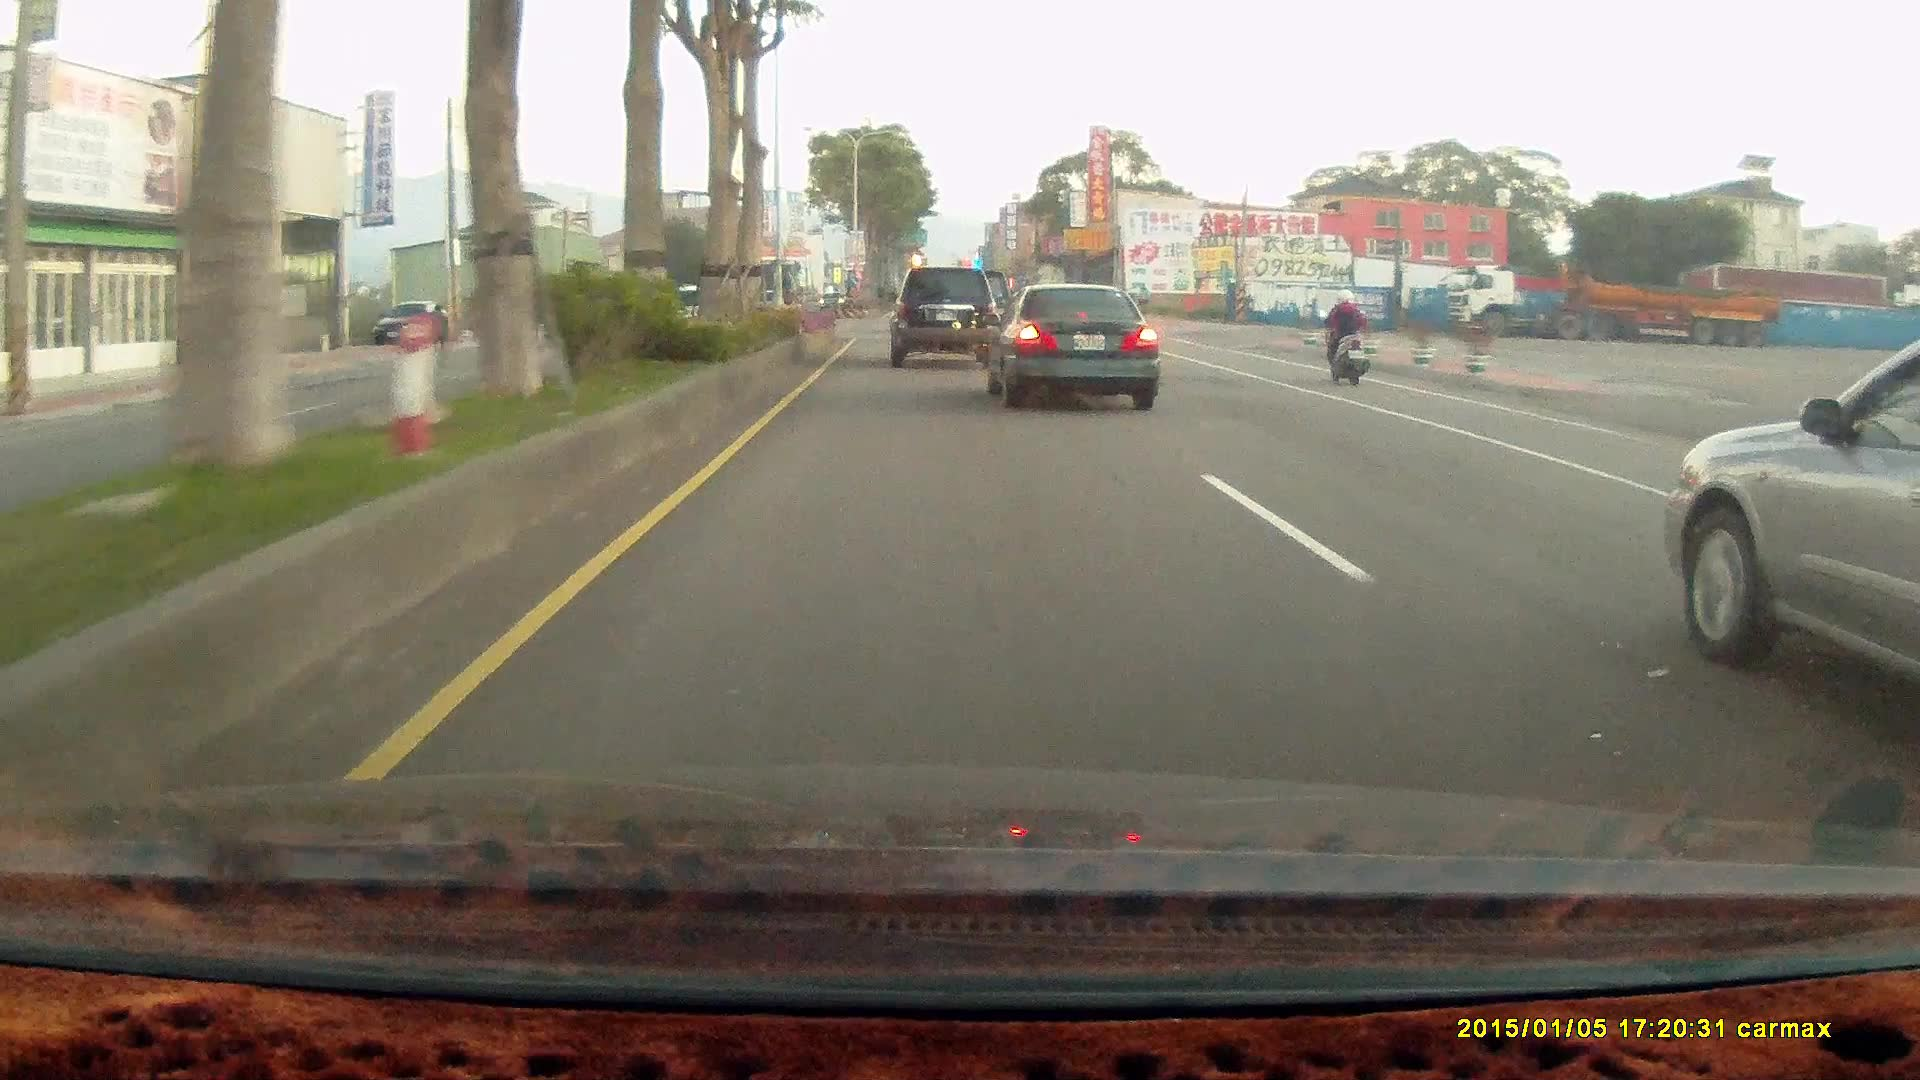pedestrian: (429, 301, 451, 351)
rider: (1312, 283, 1378, 390), (1315, 286, 1370, 384)
vehicle: (1660, 325, 1920, 720), (1438, 266, 1776, 348), (983, 282, 1161, 412), (983, 285, 1156, 407), (885, 263, 1000, 366), (884, 265, 998, 366), (374, 298, 449, 349), (373, 298, 447, 348)
